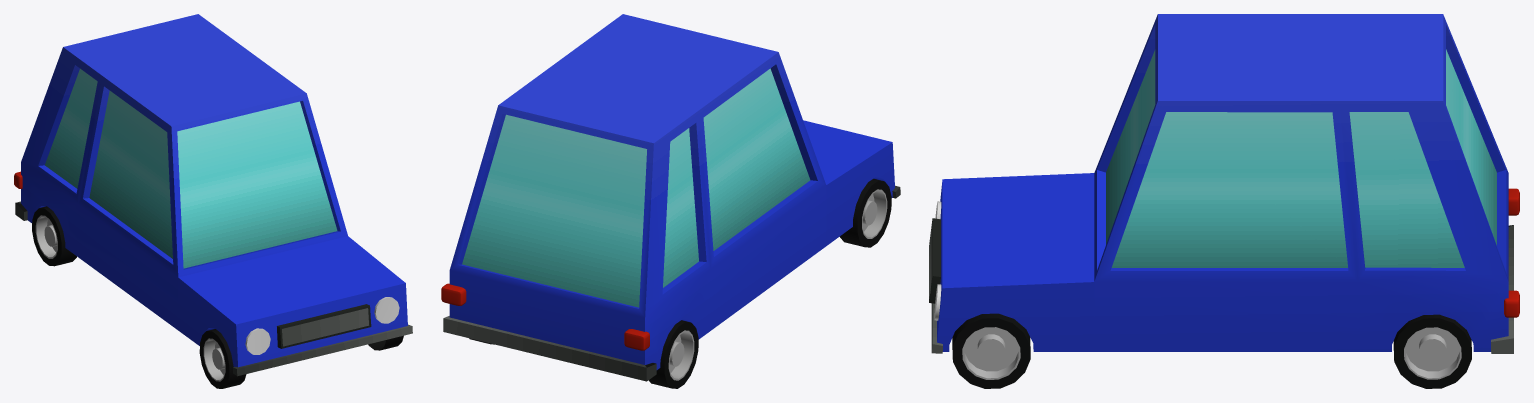
File: SM_Car_Blue.fbx
3 views of the same model, side by side, from view 1: azimuth 30°, elevation 25°; view 2: azimuth 150°, elevation 25°; view 3: azimuth 270°, elevation 25° (orthographic). The views are drawn at different scales.
Visible parts, largest first — view 1: Car, Wheels, Grate, Headlights; view 2: Car, Wheels, Break_Lights; view 3: Car, Wheels, Grate, Break_Lights.
Boxes of the visible parts, left/top/right/bottom form: Car: left=15, top=14, right=412, bottom=376; Wheels: left=32, top=206, right=403, bottom=388; Grate: left=277, top=304, right=371, bottom=348; Headlights: left=245, top=297, right=399, bottom=354; Car: left=443, top=14, right=900, bottom=381; Wheels: left=469, top=178, right=891, bottom=388; Break_Lights: left=441, top=283, right=649, bottom=350; Car: left=931, top=14, right=1513, bottom=353; Wheels: left=952, top=313, right=1471, bottom=388; Grate: left=929, top=218, right=940, bottom=303; Break_Lights: left=1504, top=188, right=1519, bottom=317.
Bounding box in the file's own units: 253 × 284 × 553.
1 material, 1 textured.
